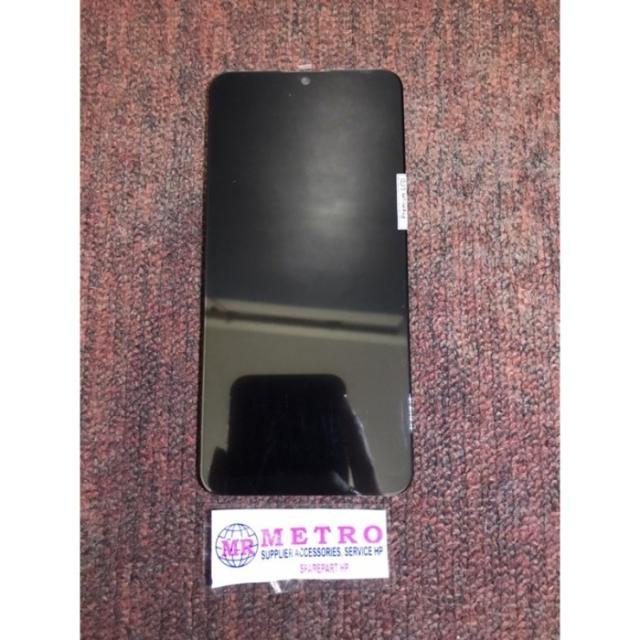mobile phone: (196, 68, 414, 497)
